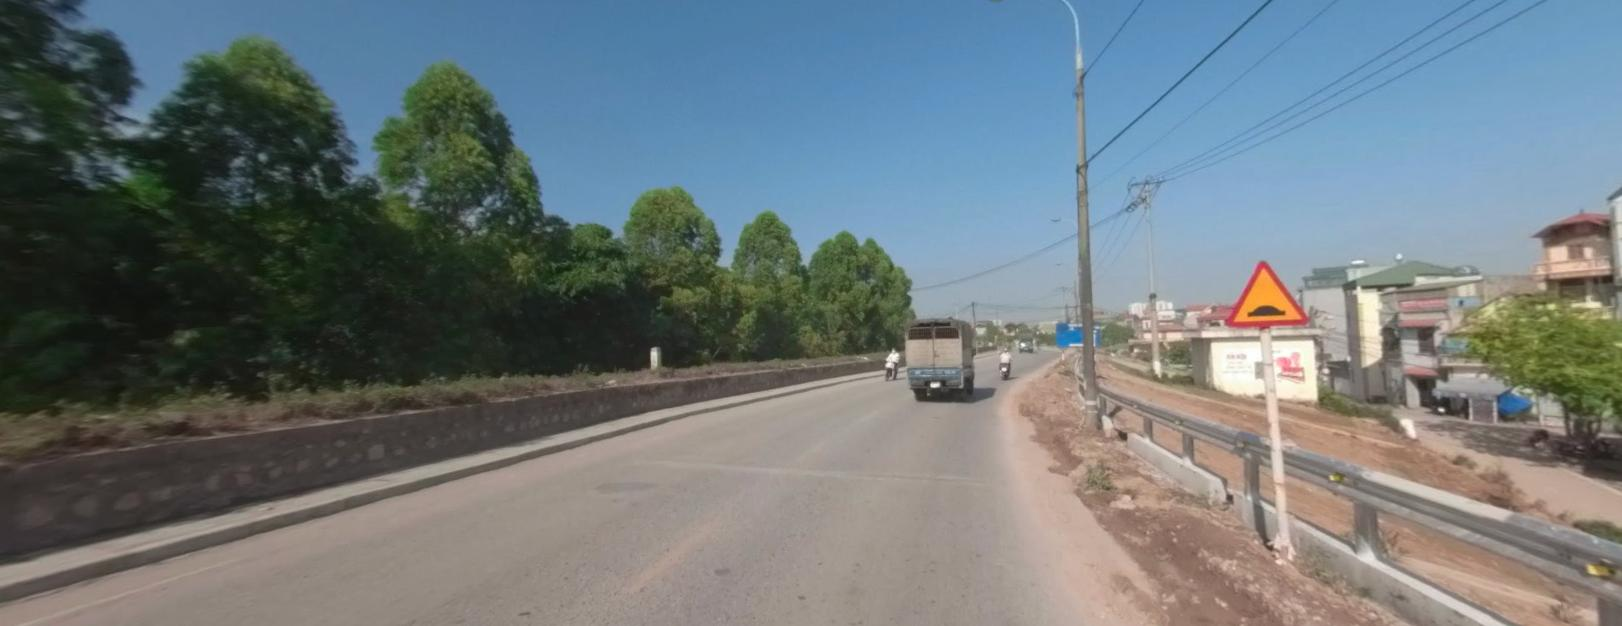Nguy hiem: (1221, 247, 1318, 337)
